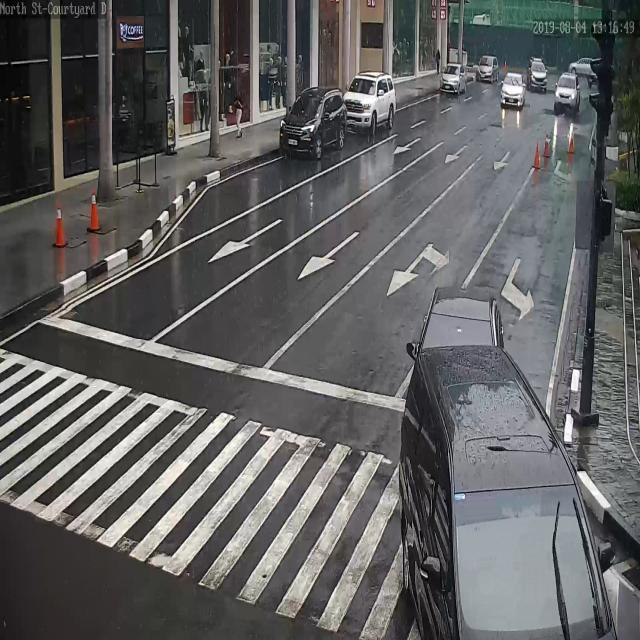car: (417, 286, 504, 354), (279, 86, 348, 158), (343, 74, 396, 134), (553, 73, 582, 113), (440, 62, 466, 94), (501, 71, 525, 105), (570, 55, 601, 81), (528, 56, 548, 93), (476, 53, 500, 83)
van: (398, 342, 616, 640)
